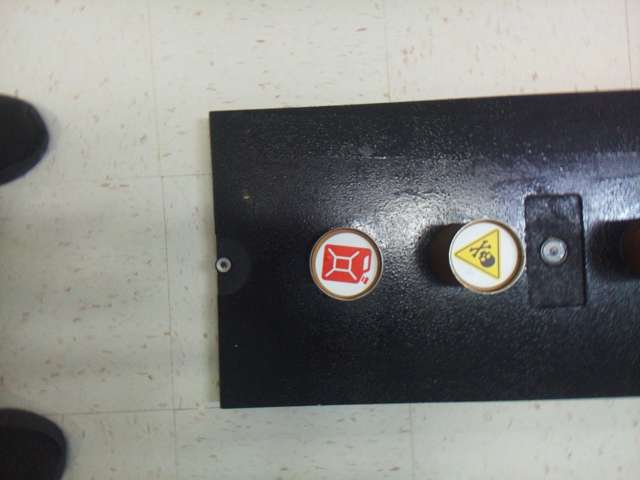gasoline: (315, 234, 377, 295)
toxic_fluid: (454, 224, 516, 288)
